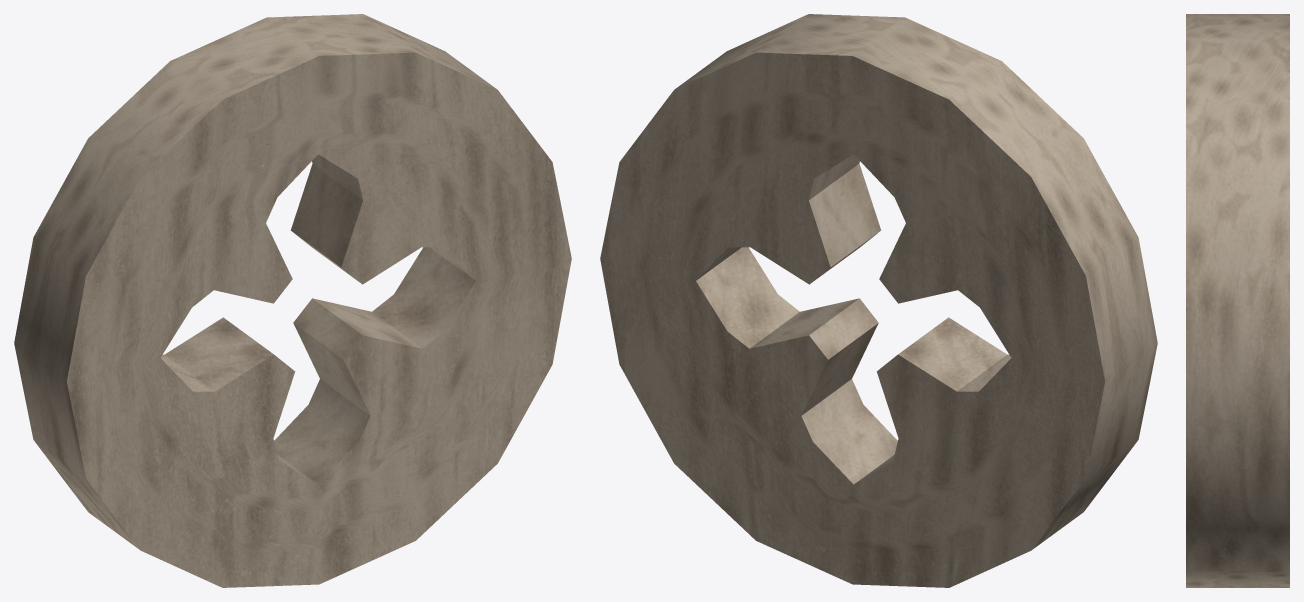
The model's file is cat_detail-lod1.obj.
The picture shows the model from 3 angles, left to right: view 1: azimuth 30°, elevation 25°; view 2: azimuth 150°, elevation 25°; view 3: azimuth 270°, elevation 25°; orthographic projection.
Visible parts, largest first — view 1: cat_detail; view 2: cat_detail; view 3: cat_detail.
Part boxes in pixels (left/top/right/bottom): cat_detail: left=14, top=14, right=571, bottom=587; cat_detail: left=600, top=14, right=1157, bottom=587; cat_detail: left=1186, top=14, right=1289, bottom=587.
Bounding box in the file's own units: 2.02 × 2.02 × 0.364.
